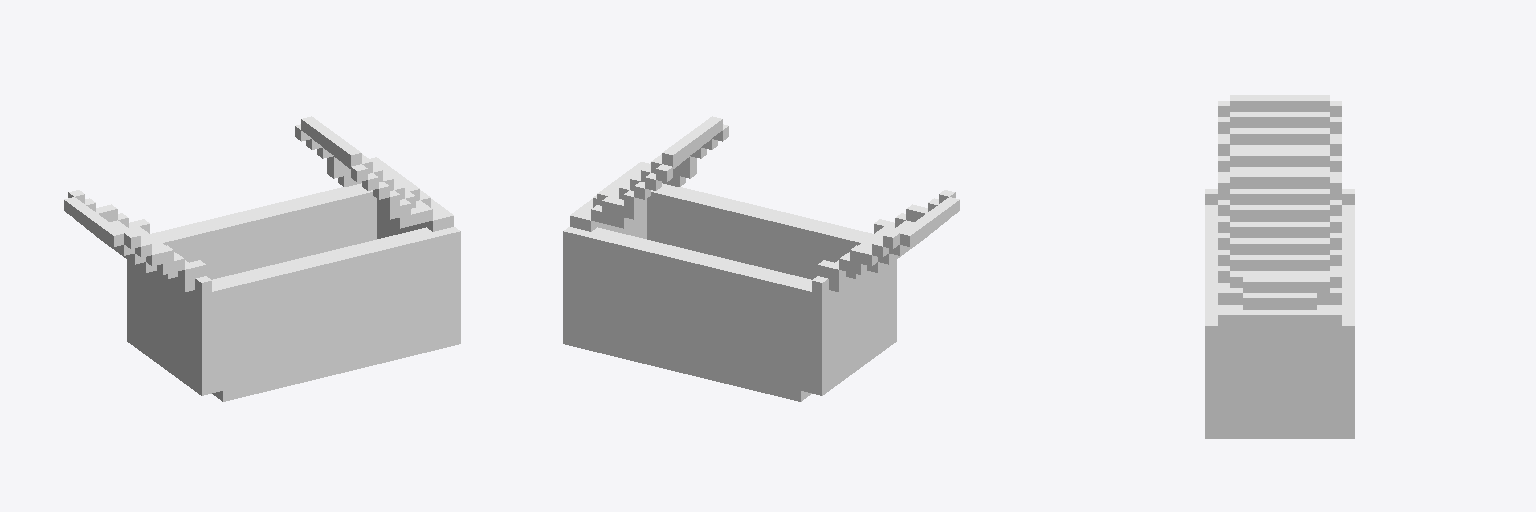
File: 500bxE.obj
The picture shows the model from 3 angles: view 1: azimuth 30°, elevation 25°; view 2: azimuth 150°, elevation 25°; view 3: azimuth 270°, elevation 25°; orthographic projection.
Visible parts, largest first — view 1: object 1; view 2: object 1; view 3: object 1.
Boxes of the visible parts, x1,y1,x2,y2 form: object 1: [64, 116, 460, 401]; object 1: [563, 116, 959, 401]; object 1: [1205, 95, 1354, 438].
Bounding box in the file's own units: 3.1 × 1.8 × 1.2.